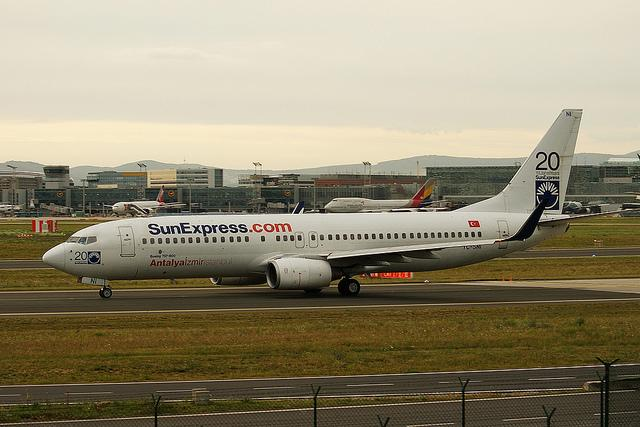airplane: (28, 108, 596, 298), (324, 175, 448, 212), (99, 184, 190, 216)
